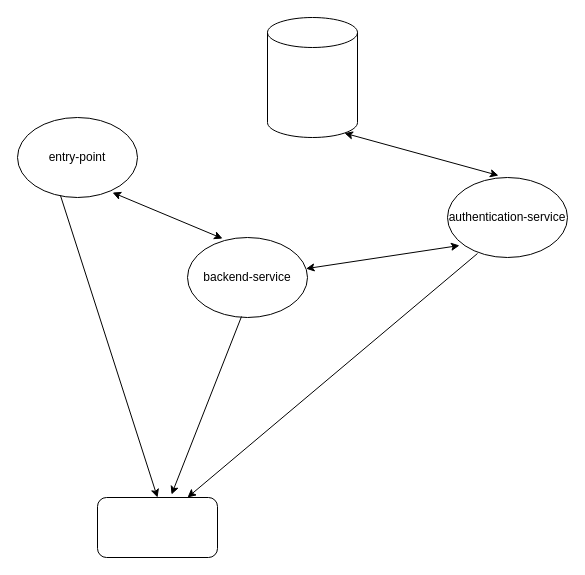
This 585x575 diagram has some shape labels left out. Here are the shapes that lost their labels. From the top down, the centre of each, then its label:
At point (312, 77): "database".
At point (157, 527): "logger".
